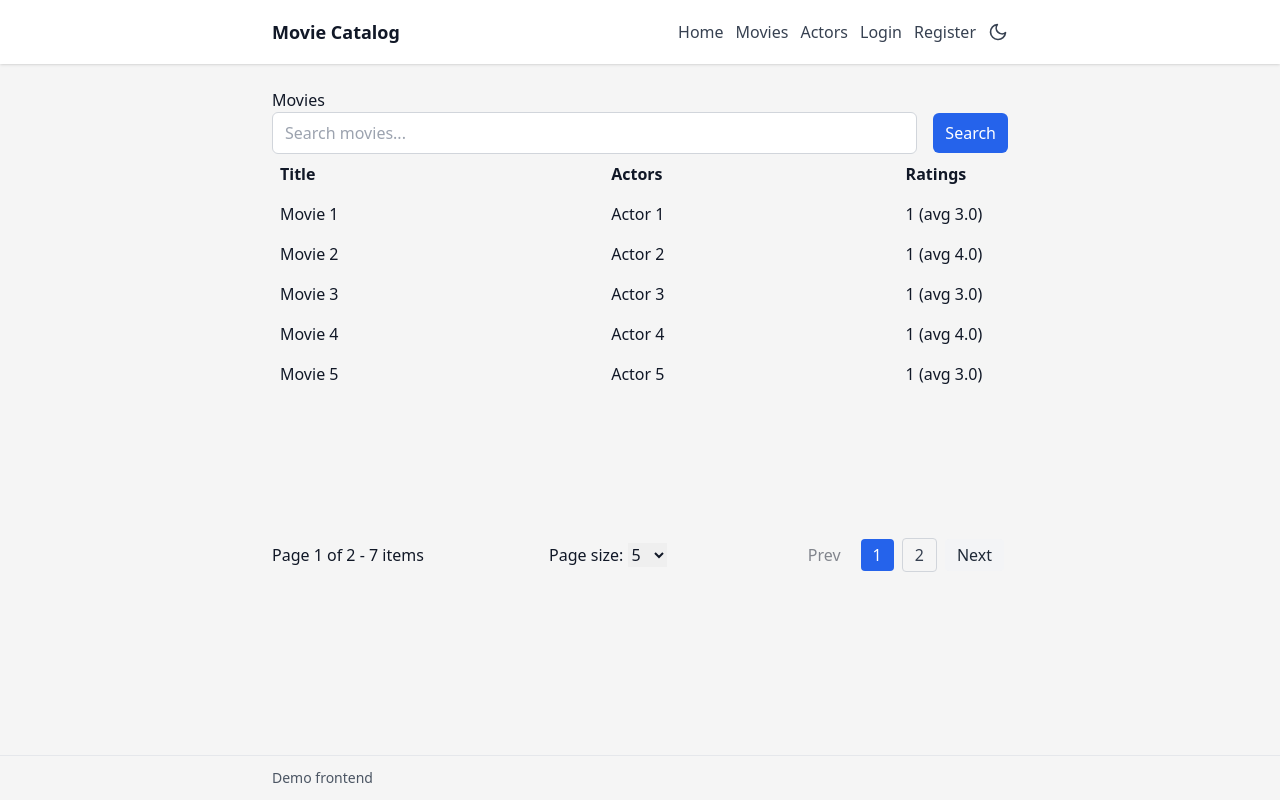
Test: Movies interactions › navigates pages and updates page size
This screenshot has width=1280, height=800.
Expected: the link "Movie 1" is shown, [280,203,338,225]
Expected: the text "Page 1 of 2 - 7 items" is shown, [272,543,424,567]
go to page 2
Click the button "2": click(919, 555) [902,538,937,572]
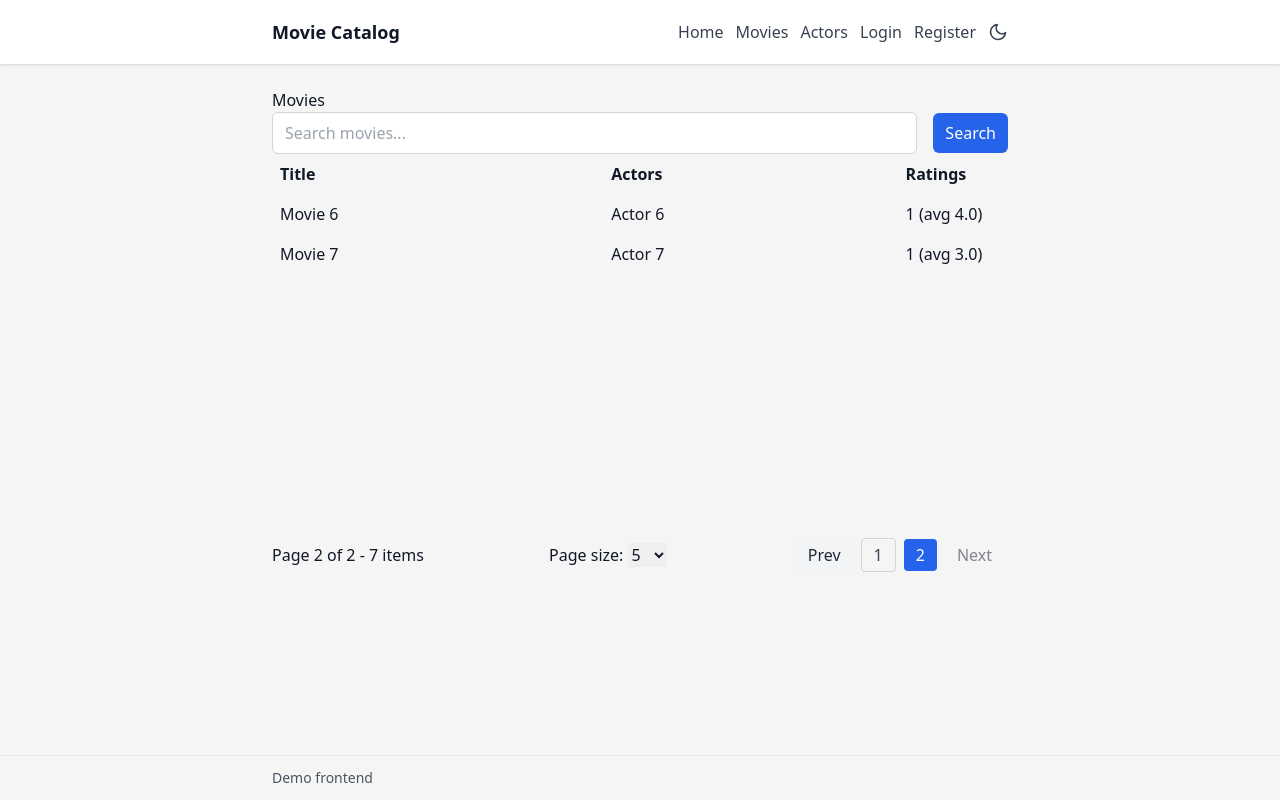
Expected: the link "Movie 6" is shown, [280,203,338,225]
change page size to 10 (should reduce pages)
Select "10" in the dropdown: (647, 555) [628,543,666,567]
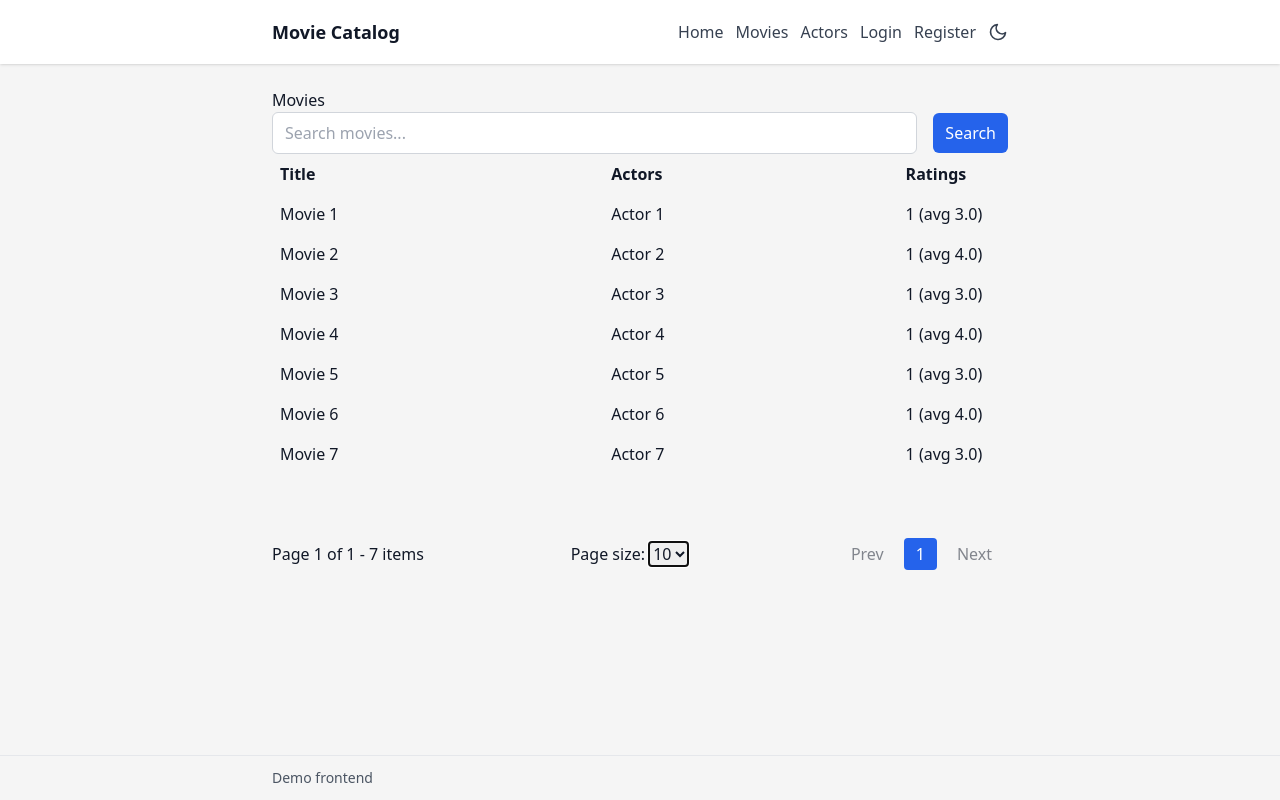
Expected: the link "Movie 1" is shown, [280,203,338,225]
Expected: the text "Page 1 of 1 - 7 items" is shown, [272,542,424,566]
Expected: the link "Actor 1" is shown, [611,203,664,225]
